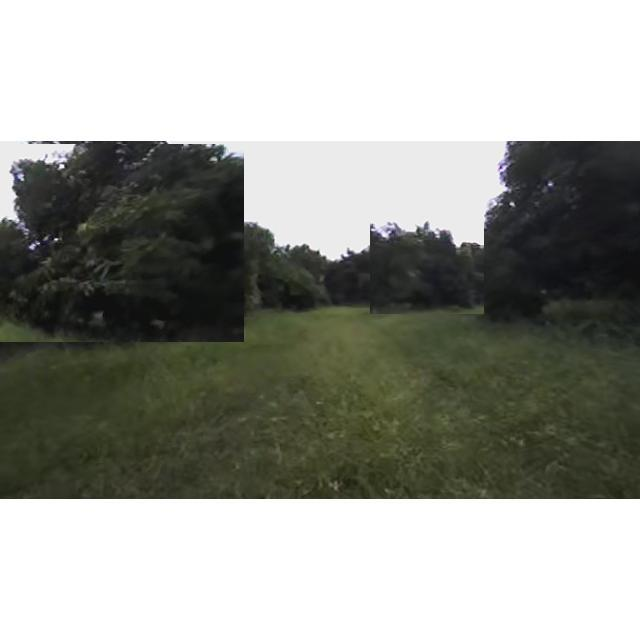tree: (0, 144, 244, 342), (474, 142, 640, 322), (370, 220, 484, 314), (198, 198, 282, 312), (258, 245, 334, 312), (326, 240, 396, 308)
